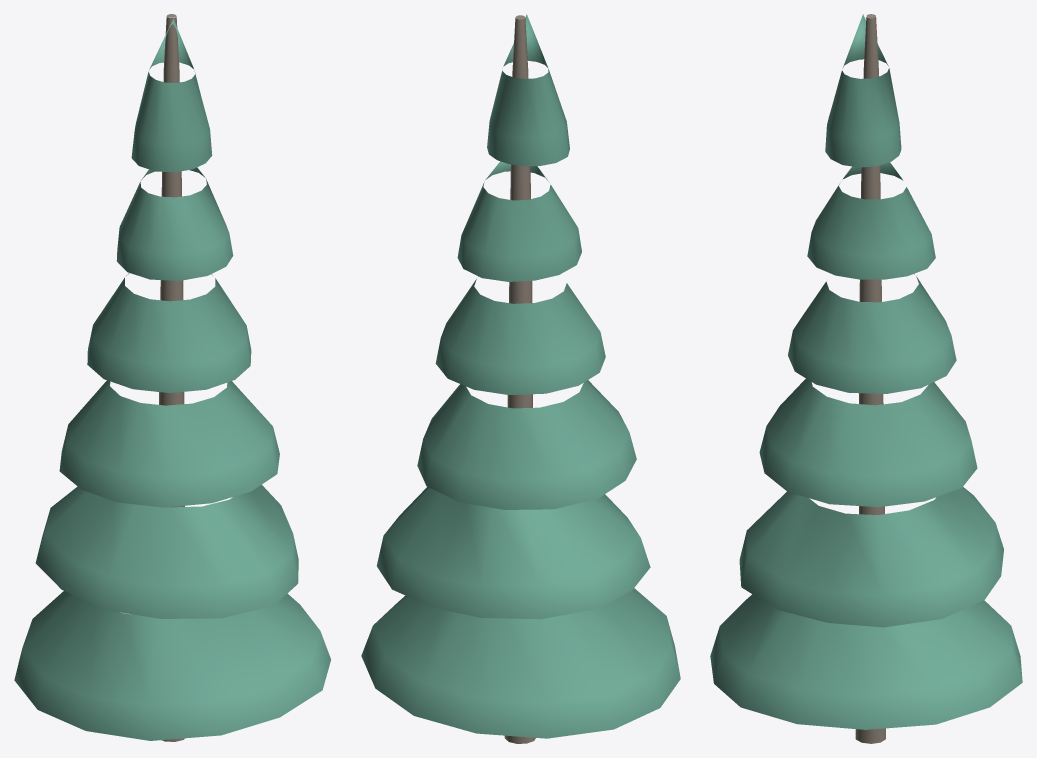
File: SM_Tree_Conifer.glb
3 views of the same model, side by side, from view 1: azimuth 30°, elevation 25°; view 2: azimuth 150°, elevation 25°; view 3: azimuth 270°, elevation 25° (orthographic).
Visible parts, largest first — view 1: SM_Tree_Conifer; view 2: SM_Tree_Conifer; view 3: SM_Tree_Conifer.
Part boxes in pixels (x1=…): SM_Tree_Conifer: x1=14, y1=14, x2=330, y2=741; SM_Tree_Conifer: x1=361, y1=14, x2=680, y2=743; SM_Tree_Conifer: x1=710, y1=14, x2=1022, y2=743.
Bounding box in the file's own units: 3.2 × 8.02 × 3.14.
